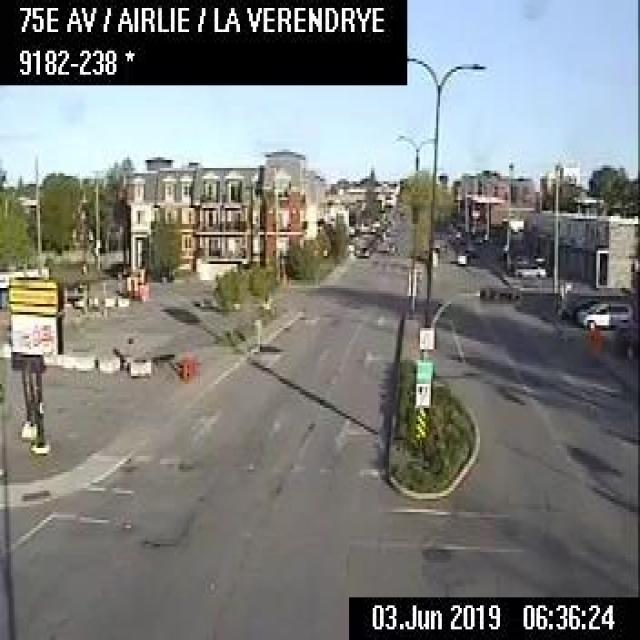construction: (184, 358, 190, 378), (181, 359, 185, 380), (190, 355, 194, 375)
vehicle: (580, 298, 631, 329), (512, 261, 544, 278), (454, 251, 466, 264), (354, 245, 368, 256), (385, 241, 395, 253)
